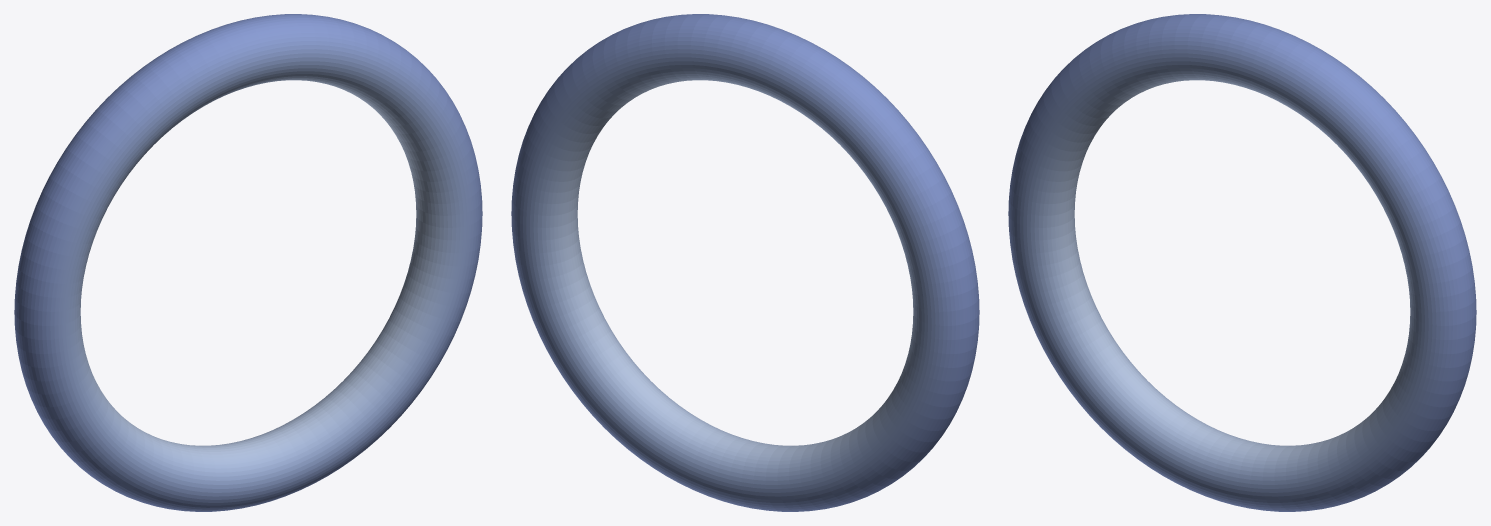
3 renders of one model, left to right at view 1: azimuth 30°, elevation 25°; view 2: azimuth 150°, elevation 25°; view 3: azimuth 330°, elevation 25°, orthographic.
Visible parts, largest first — view 1: world; view 2: world; view 3: world.
Part boxes in pixels (left/top/right/bottom): world: left=14, top=14, right=482, bottom=511; world: left=511, top=14, right=979, bottom=511; world: left=1008, top=14, right=1476, bottom=511.
Bounding box in the file's own units: 26.67 × 26.67 × 3.33.
